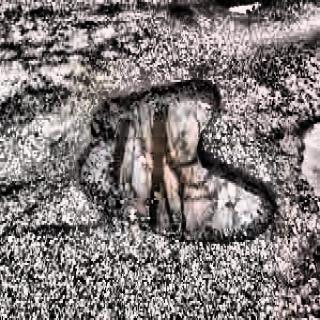pothole: (77, 72, 277, 251), (293, 66, 320, 225), (210, 0, 278, 15), (168, 5, 197, 23)
